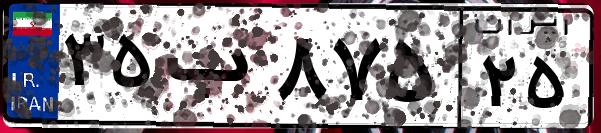2: (475, 38, 525, 113)
3: (57, 26, 110, 100)
5: (385, 28, 445, 110), (525, 38, 570, 115), (110, 28, 158, 98)
7: (330, 28, 385, 110)
8: (270, 28, 330, 110)
ب: (158, 20, 270, 120)
